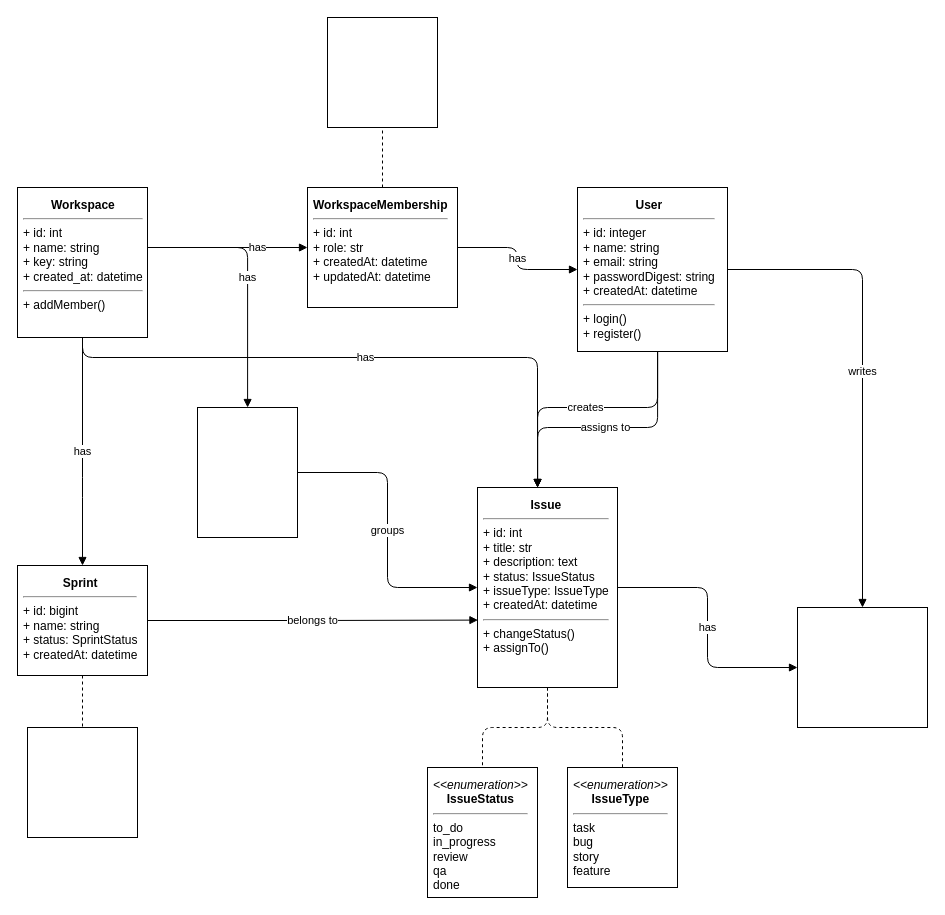
The diagram is 945 pixels wide and 915 high, and some of its shapes have lost their labels. The shapes that lost their labels are listed below. From the top down, each one's box as (x1, y1, x2, y2) in pixels, then its label:
(326, 16, 438, 128): <<enumeration>> Roles owner admin member
(196, 406, 298, 538): Epic + id: integer + name: string + description: string + createdAt: datetime
(796, 606, 928, 728): Comment + id: int + body: text + createdAt: datetime + comment()
(26, 726, 138, 838): <<enumeration>> SprintStatus planned active completed
